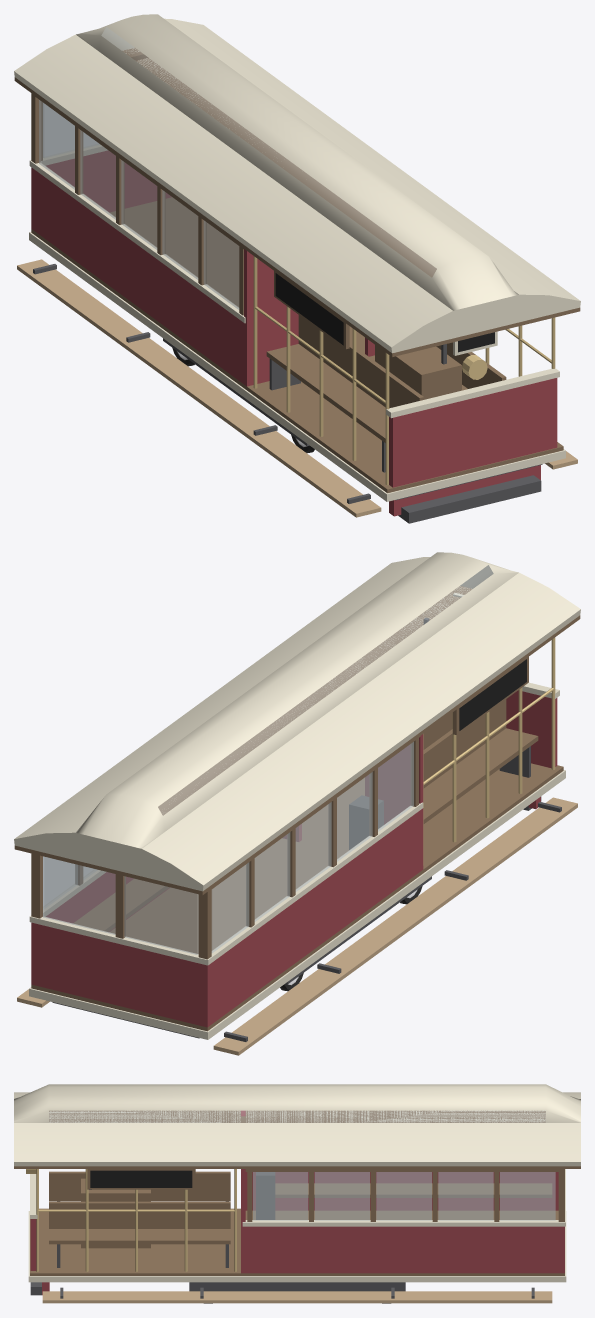
File: cable_car_powell.glb
The picture shows the model from 3 angles, top to bottom: view 1: azimuth 30°, elevation 25°; view 2: azimuth 150°, elevation 25°; view 3: azimuth 270°, elevation 25°; orthographic projection. The views are drawn at different scales.
Visible parts, largest first — view 1: body, destboard; view 2: body, destboard; view 3: body, destboard.
Boxes of the visible parts, box(x1,y1,x2,y2) form: body: box(14, 14, 580, 523); destboard: box(275, 273, 343, 345); body: box(14, 552, 580, 1055); destboard: box(459, 659, 526, 730); body: box(14, 1084, 580, 1303); destboard: box(90, 1170, 192, 1187).
Size of the model in its own units: 3.02 by 3.35 by 8.9.
